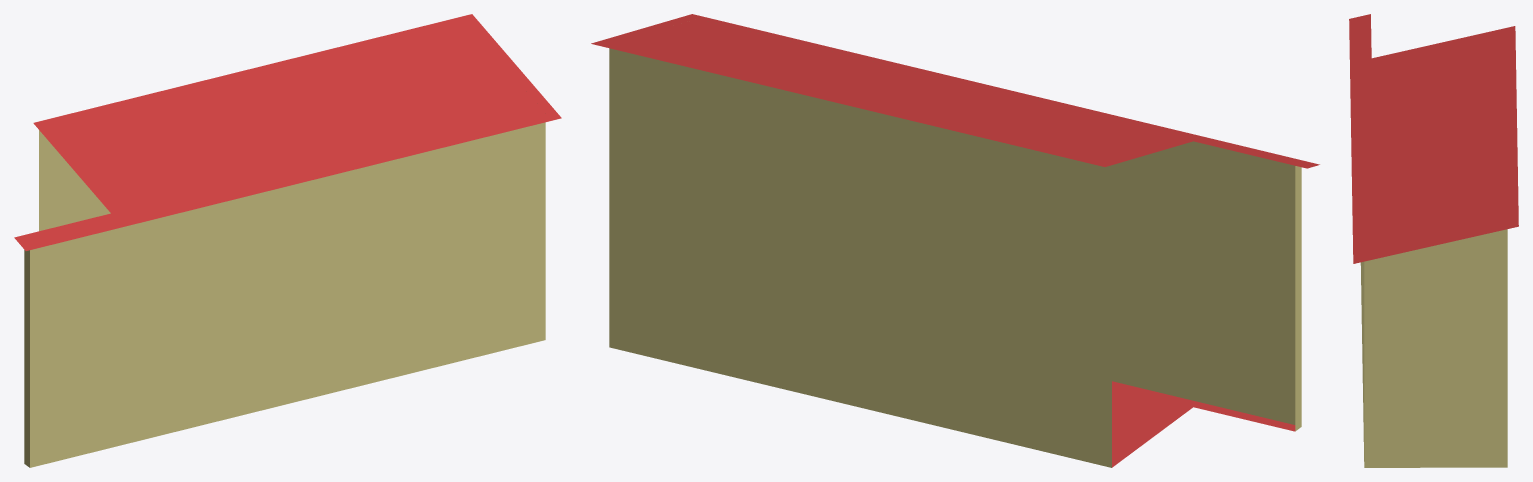
3 renders of one model, left to right at view 1: azimuth 30°, elevation 25°; view 2: azimuth 150°, elevation 25°; view 3: azimuth 270°, elevation 25°, orthographic. The views are drawn at different scales.
Bounding box in the file's own units: 13.15 × 3.85 × 6.14.
